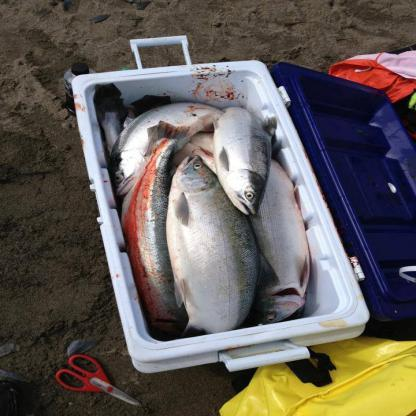fish: (163, 152, 258, 350), (225, 136, 306, 322), (119, 123, 188, 341), (103, 98, 226, 196), (214, 99, 271, 212)
